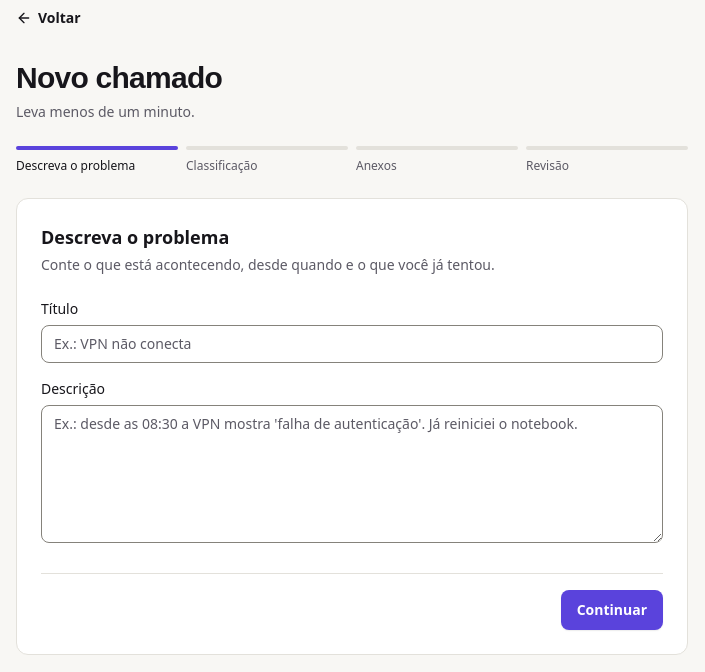
NewTicketPage › segue sem sugestão quando a IA falha
Type "VPN não conecta" into the field labelled "Título" at (352, 344), box [41,325,663,363]
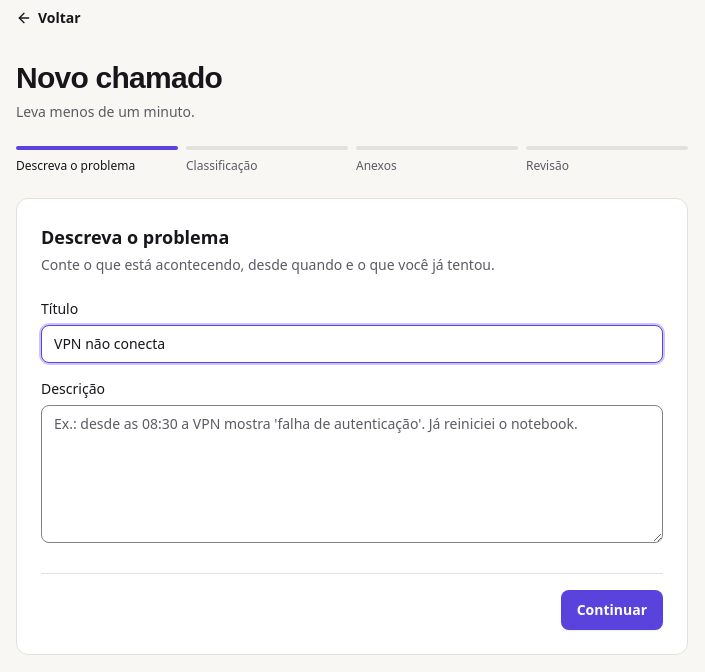
Type "Falha de autenticação desde as 08:30." into the text box labelled "Descrição" at (352, 474), box [41,405,663,543]
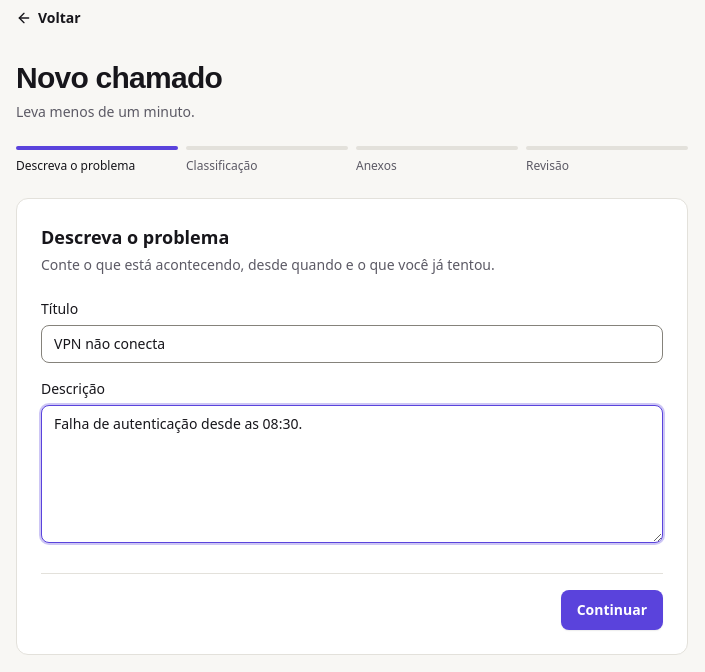
Click the button "Continuar" at (612, 610), box [561,590,663,630]
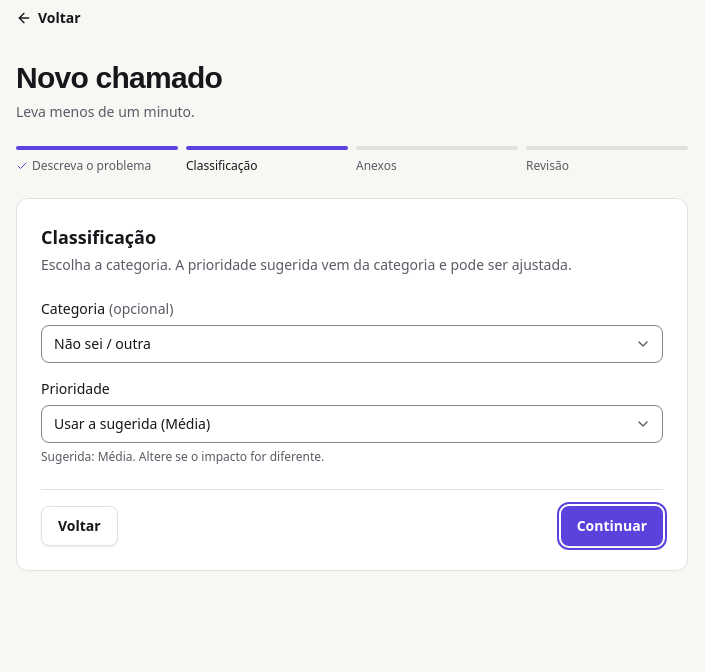
Result: the heading "Classificação" is shown at [40,224,156,249]
Result: the dropdown labelled "Categoria(opcional)" shows "Não sei / outra" at [41,325,663,363]
